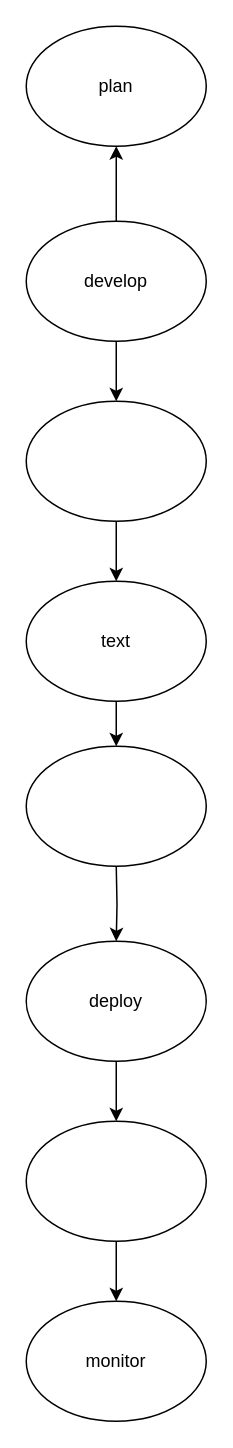
Image size: 233x1448. Some labels were removed from this diagram. Here are the shapes that lost their labels. From the top down, the centre of each, then its label:
At pixel 115 460: "build".
At pixel 115 805: "reliease".
At pixel 115 1180: "operate".
